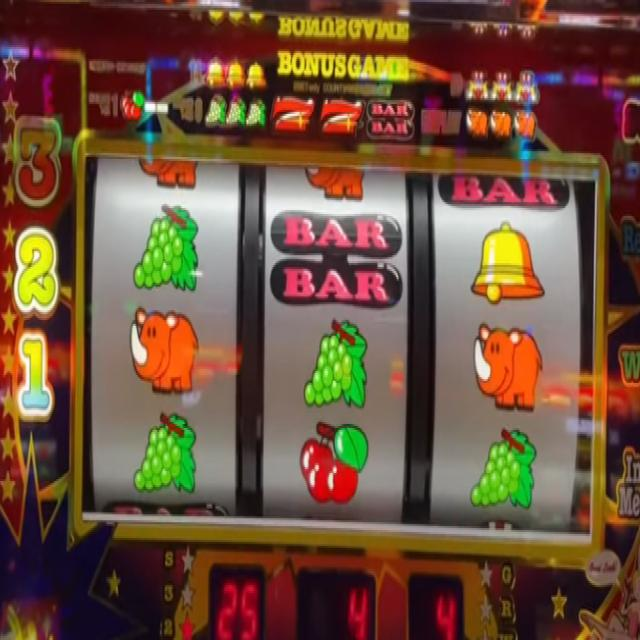bar: (269, 208, 403, 309), (438, 165, 572, 213), (366, 98, 416, 140)
bell: (471, 218, 545, 308), (205, 54, 226, 92), (247, 57, 266, 90), (227, 56, 245, 89)
cherry: (299, 419, 370, 508), (120, 92, 143, 124)
clown: (515, 67, 540, 105), (465, 64, 489, 100), (490, 68, 513, 100)
display: (82, 152, 596, 539)
elephant: (128, 305, 200, 397), (471, 321, 544, 410), (303, 157, 367, 202), (135, 151, 201, 187), (513, 108, 539, 140), (491, 104, 512, 141), (465, 105, 488, 136)
grape: (130, 203, 199, 293), (304, 314, 367, 412), (470, 426, 537, 512), (134, 410, 198, 498), (205, 93, 226, 127), (247, 92, 266, 129), (227, 93, 246, 128)
z: (320, 96, 364, 139), (272, 92, 315, 135)
